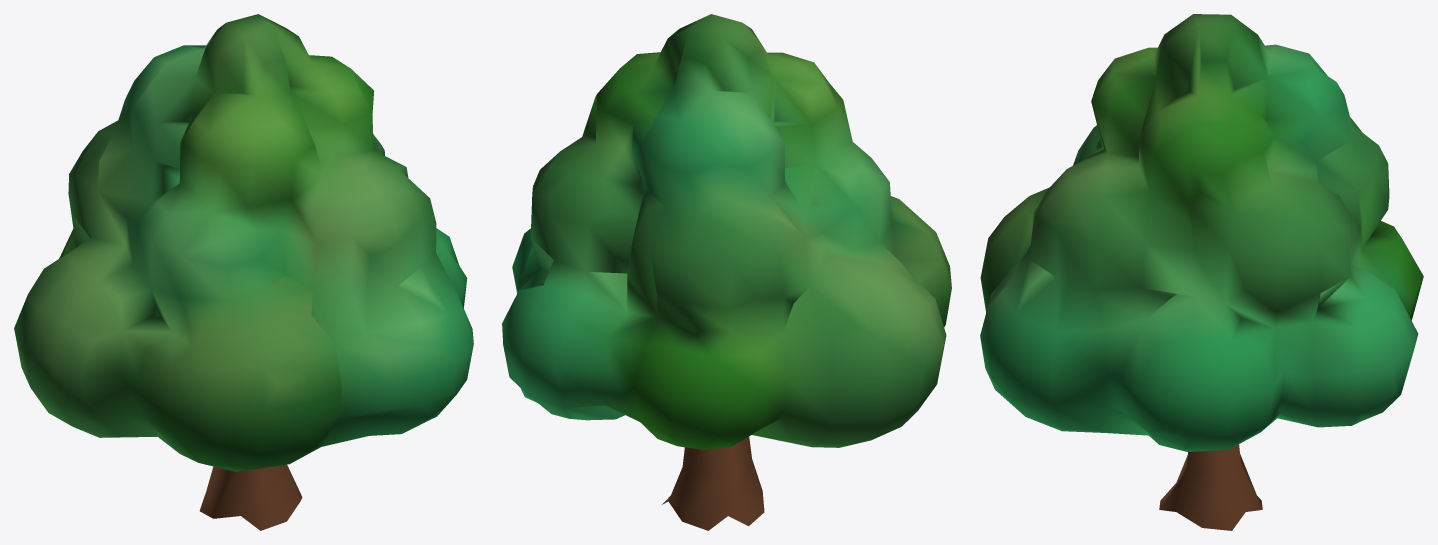
The model's file is pine-tree-112-lod2.obj.
3 views of the same model, side by side, from view 1: azimuth 30°, elevation 25°; view 2: azimuth 150°, elevation 25°; view 3: azimuth 270°, elevation 25° (orthographic).
Visible parts, largest first — view 1: simplified; view 2: simplified; view 3: simplified.
Boxes of the visible parts, <box> form: simplified: <box>14,14,473,530</box>; simplified: <box>502,14,951,530</box>; simplified: <box>980,14,1423,530</box>.
Size of the model in its own units: 279 by 313 by 257.
